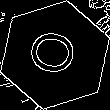O_E: (25, 28, 85, 82)
